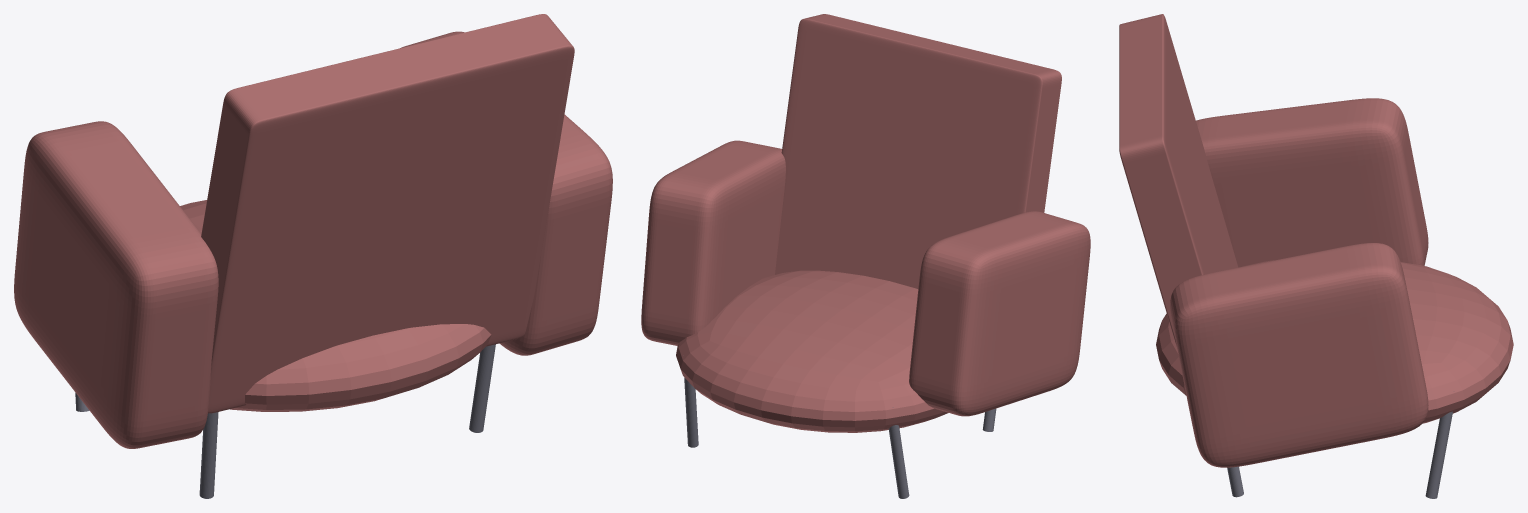
3 views of the same model, side by side, from view 1: azimuth 30°, elevation 25°; view 2: azimuth 150°, elevation 25°; view 3: azimuth 270°, elevation 25° (orthographic). The views are drawn at different scales.
Parts seen in each view (by area): view 1: Backrest, Left_Armrest, Right_Armrest, Seat_Cushion, Back_Right_Leg, Back_Left_Leg; view 2: Backrest, Seat_Cushion, Left_Armrest, Right_Armrest, Front_Left_Leg, Front_Right_Leg; view 3: Right_Armrest, Left_Armrest, Backrest, Seat_Cushion, Front_Right_Leg.
Part boxes in pixels (x1,y1,x2,y2): Backrest: (201,14,574,413); Left_Armrest: (14,121,218,448); Right_Armrest: (400,31,612,355); Seat_Cushion: (180,200,491,411); Back_Right_Leg: (469,344,495,432); Back_Left_Leg: (199,412,218,498); Backrest: (775,14,1061,288); Seat_Cushion: (676,270,948,432); Left_Armrest: (909,211,1090,416); Right_Armrest: (641,140,785,345); Front_Left_Leg: (888,407,909,498); Front_Right_Leg: (684,378,698,447); Right_Armrest: (1170,243,1428,467); Left_Armrest: (1196,98,1428,267); Backrest: (1119,14,1238,348); Seat_Cushion: (1156,260,1513,423); Front_Right_Leg: (1425,411,1452,498).
Size of the model in its own units: 1.92 by 1.7 by 1.67.
